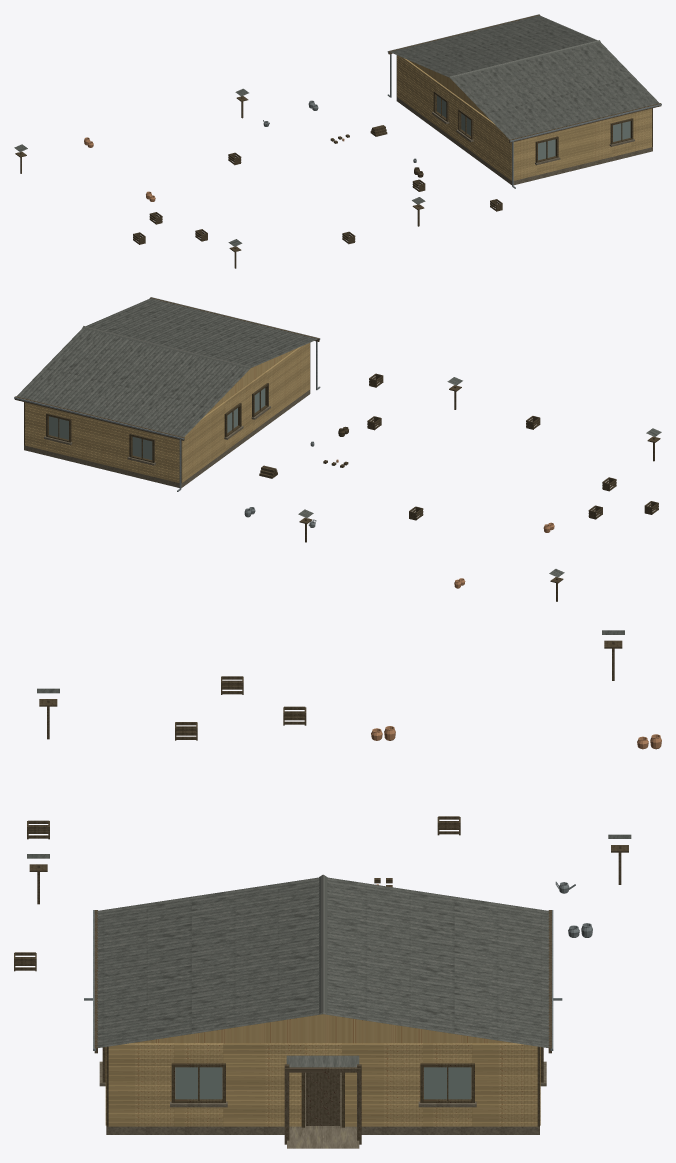
The picture shows the model from 3 angles, top to bottom: view 1: azimuth 30°, elevation 25°; view 2: azimuth 150°, elevation 25°; view 3: azimuth 270°, elevation 25°; orthographic projection. The views are drawn at different scales.
Visible parts, largest first — view 1: H07_CHAPAS_ONDULADAS, H07_FUNDOS, H07_LATERAIS, H07_FUNDACAO, H07_CAIXILHOS, H07_VIDROS_RECUADOS, H07_BEIRAIS, H07_OITOES, H07_CUMEEIRA, H07_CALHA; view 2: H07_CHAPAS_ONDULADAS, H07_FUNDOS, H07_LATERAIS, H07_FUNDACAO, H07_VIDROS_RECUADOS, H07_CAIXILHOS, H07_BEIRAIS, H07_OITOES, H07_CUMEEIRA, H07_CALHA; view 3: H07_CHAPAS_ONDULADAS, H07_FACHADA, H07_OITOES, H07_FUNDACAO, H07_VIDROS_RECUADOS, H07_PORTA_FOLHA, H07_CAIXILHOS, H07_RAMPA, H07_CUMEEIRA, H07_BEIRAIS, H07_ALPENDRE_COBERTURA, H07_ALPENDRE_PILARES (+1 smaller).
Part boxes in pixels (x1=…): H07_CHAPAS_ONDULADAS: x1=390, y1=15, x2=659, y2=139; H07_FUNDOS: x1=397, y1=55, x2=511, y2=180; H07_LATERAIS: x1=513, y1=108, x2=651, y2=180; H07_FUNDACAO: x1=396, y1=97, x2=652, y2=185; H07_CAIXILHOS: x1=433, y1=91, x2=633, y2=162; H07_VIDROS_RECUADOS: x1=437, y1=96, x2=630, y2=160; H07_BEIRAIS: x1=388, y1=14, x2=661, y2=142; H07_OITOES: x1=408, y1=60, x2=490, y2=120; H07_CUMEEIRA: x1=449, y1=40, x2=600, y2=78; H07_CALHA: x1=387, y1=14, x2=661, y2=141; H07_CHAPAS_ONDULADAS: x1=17, y1=298, x2=317, y2=436; H07_FUNDOS: x1=182, y1=343, x2=309, y2=482; H07_LATERAIS: x1=25, y1=402, x2=179, y2=483; H07_FUNDACAO: x1=24, y1=389, x2=310, y2=487; H07_VIDROS_RECUADOS: x1=49, y1=388, x2=265, y2=459; H07_CAIXILHOS: x1=46, y1=383, x2=268, y2=462; H07_BEIRAIS: x1=14, y1=297, x2=319, y2=440; H07_OITOES: x1=205, y1=348, x2=296, y2=415; H07_CUMEEIRA: x1=82, y1=326, x2=250, y2=368; H07_CALHA: x1=14, y1=297, x2=320, y2=439; H07_CHAPAS_ONDULADAS: x1=97, y1=877, x2=549, y2=1047; H07_FACHADA: x1=108, y1=1043, x2=537, y2=1126; H07_OITOES: x1=131, y1=1014, x2=514, y2=1043; H07_FUNDACAO: x1=106, y1=1067, x2=539, y2=1134; H07_VIDROS_RECUADOS: x1=175, y1=1067, x2=471, y2=1099; H07_PORTA_FOLHA: x1=306, y1=1072, x2=340, y2=1125; H07_CAIXILHOS: x1=102, y1=1047, x2=543, y2=1102; H07_RAMPA: x1=287, y1=1128, x2=359, y2=1148; H07_CUMEEIRA: x1=319, y1=874, x2=327, y2=1014; H07_BEIRAIS: x1=94, y1=910, x2=551, y2=1053; H07_ALPENDRE_COBERTURA: x1=286, y1=1055, x2=359, y2=1067; H07_ALPENDRE_PILARES: x1=284, y1=1064, x2=361, y2=1144.
Size of the model in its own units: 34.05 by 4.28 by 19.73.
Materials: 11 (9 with a texture image).
